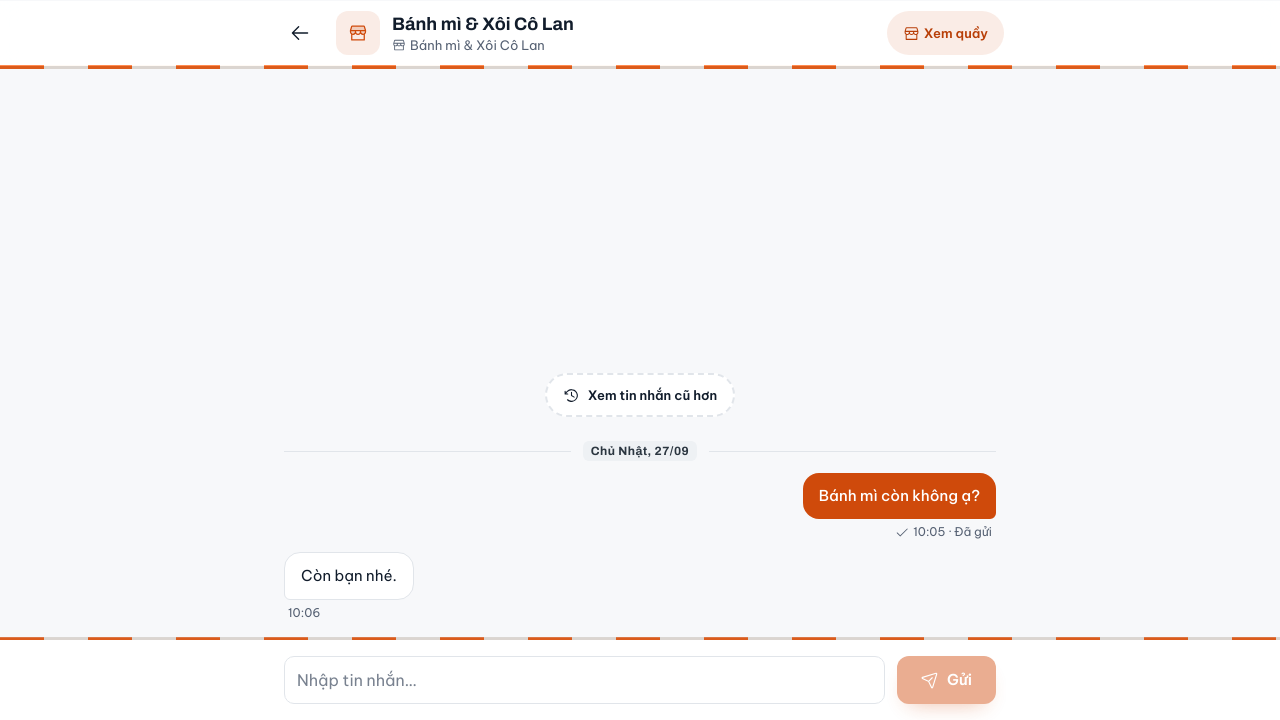
Test: chat › prepends an older page above the messages already shown
The width and height of the screenshot is (1280, 720).
What coordinates should you click on to do the following:
click the button "Xem tin nhắn cũ hơn"
I would click on:
 (640, 395)
Its box is [545, 373, 735, 417].
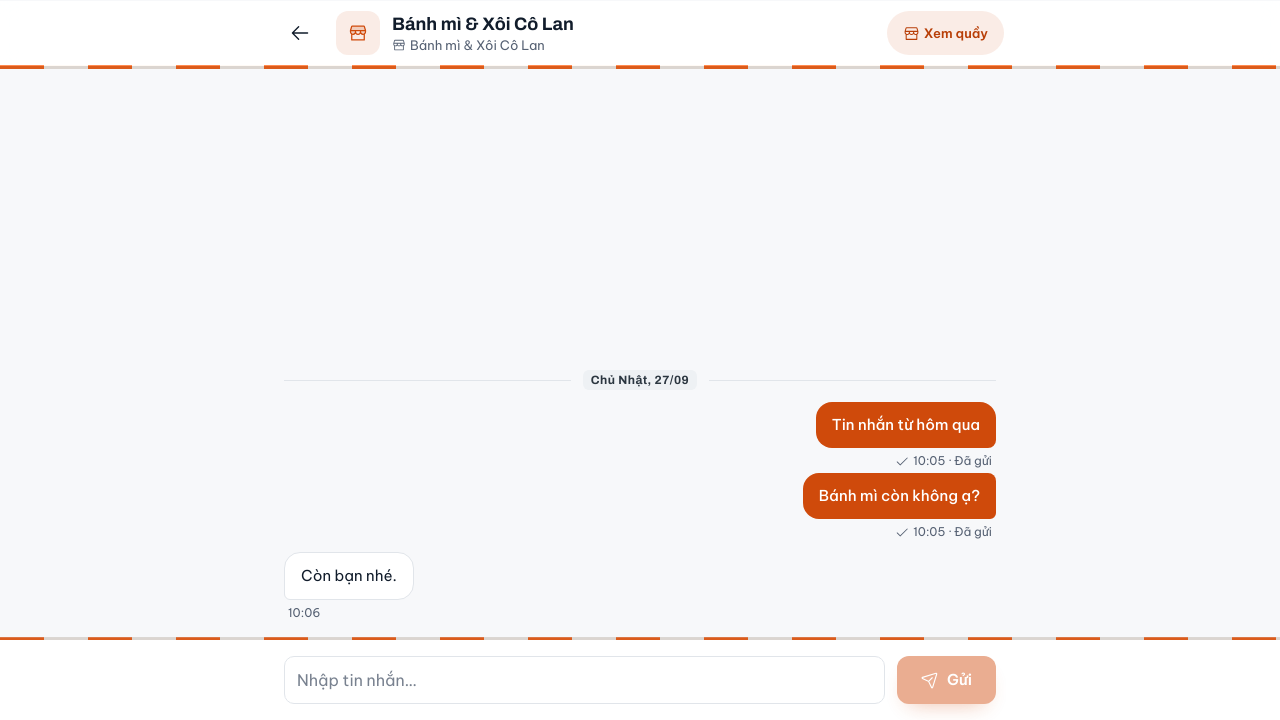
Check: the text "Tin nhắn từ hôm qua" is shown, box [816, 402, 996, 448]
Check: the button "Xem tin nhắn cũ hơn" is gone
